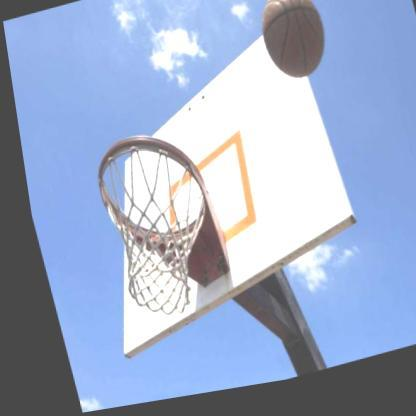basketball: (250, 0, 330, 94)
rim: (82, 124, 224, 329)
